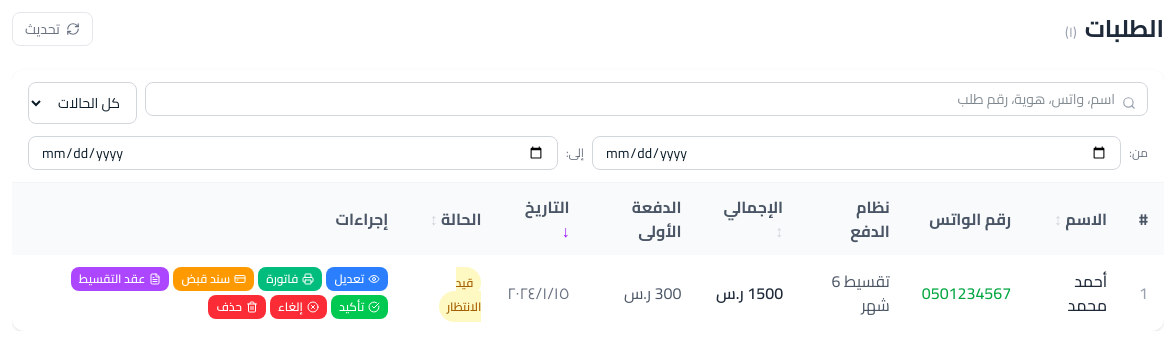
Test: OrdersPage — الأزرار › زر تأكيد يُعطَّل أثناء الـ loading
This screenshot has width=1176, height=348.
Expected: the text "أحمد محمد" is shown, 1027,255 -> 1123,331
Step 1. Click the button "تأكيد" → click(360, 307), box 331,295 -> 388,319
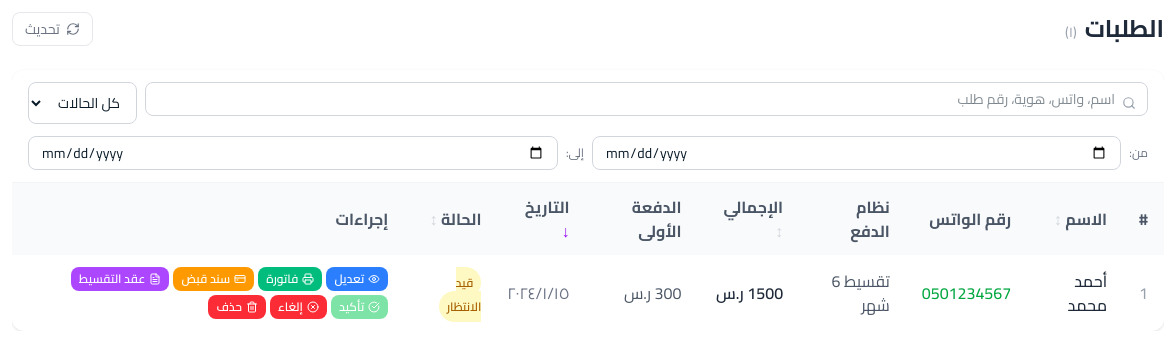
Result: the button "تأكيد" is disabled at 331,295 -> 388,319
